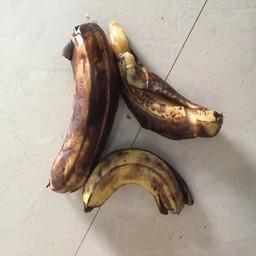Bad_banana: (105, 19, 230, 144), (44, 21, 105, 196), (83, 146, 188, 220)
